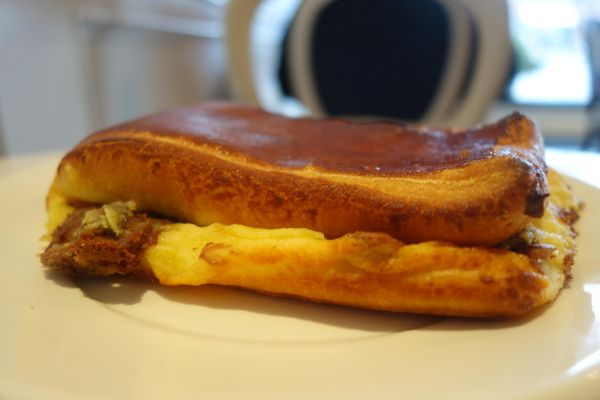soup: (28, 101, 586, 320)
